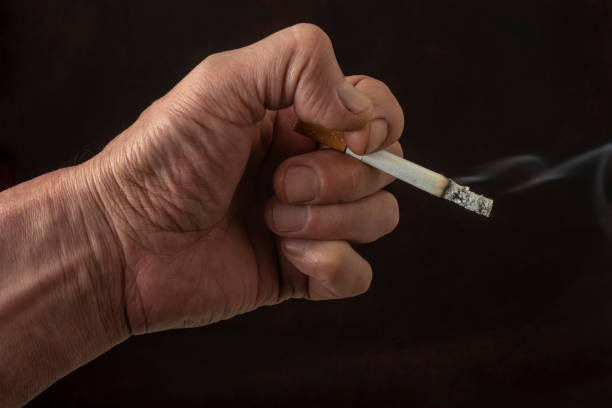cigarette: (292, 119, 497, 220)
